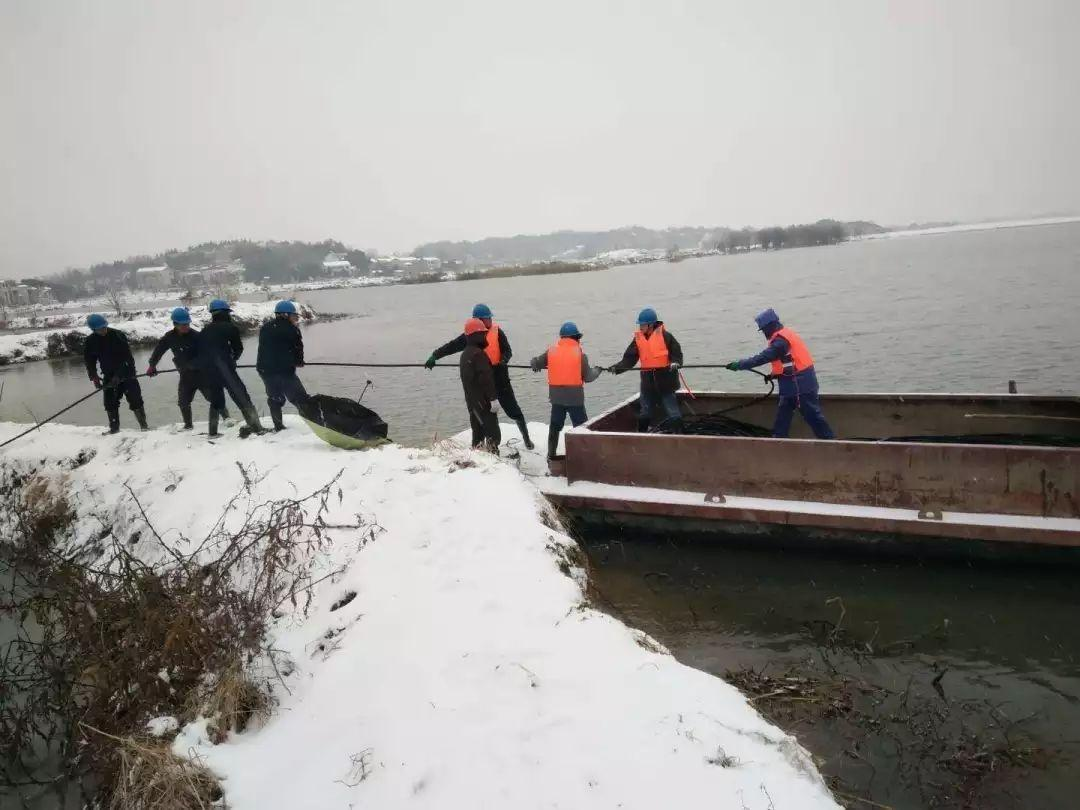Helmet: (634, 307, 660, 334), (559, 320, 586, 343), (172, 308, 194, 333)
